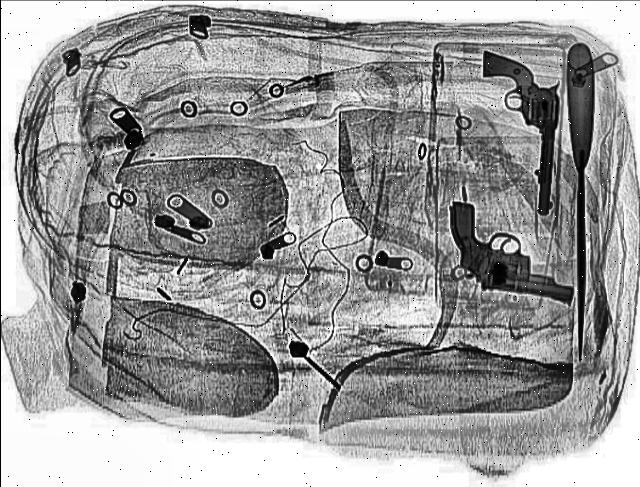Gun: (420, 202, 598, 306), (464, 51, 564, 217)
Knife: (564, 44, 594, 362)
